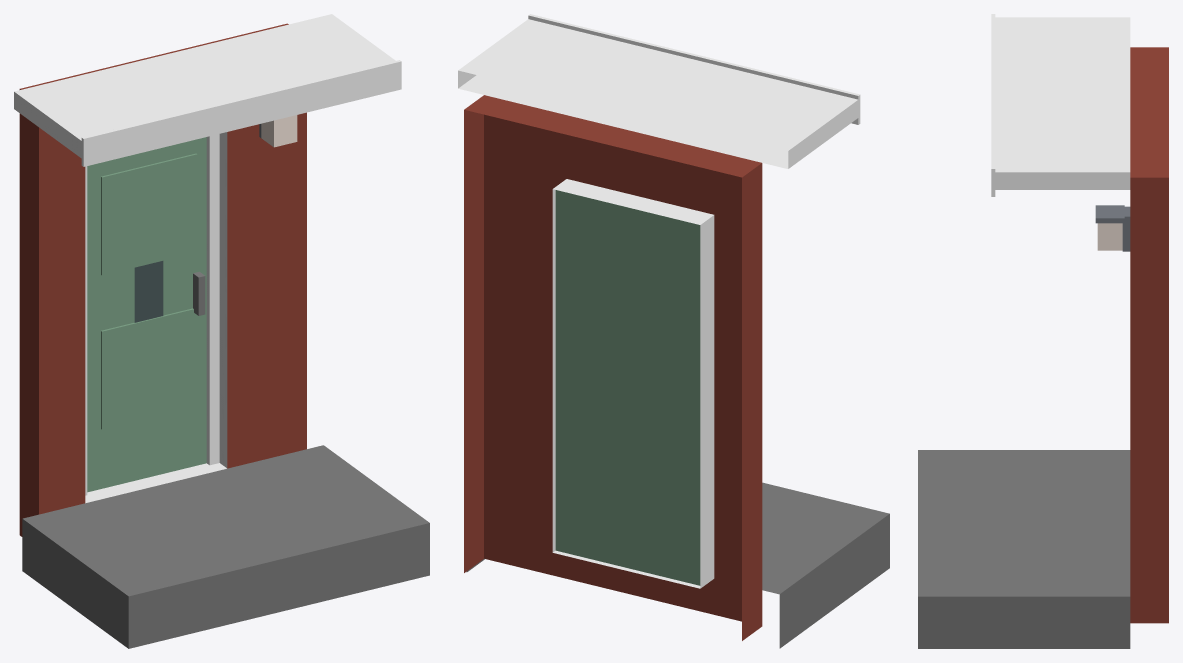
The model's file is entrance_close.fbx.
3 views of the same model, side by side, from view 1: azimuth 30°, elevation 25°; view 2: azimuth 150°, elevation 25°; view 3: azimuth 270°, elevation 25° (orthographic). The views are drawn at different scales.
Visible parts, largest first — view 1: a2015/600/entrance_close; view 2: a2015/600/entrance_close; view 3: a2015/600/entrance_close.
Boxes of the visible parts, x1=… form: a2015/600/entrance_close: x1=14, y1=14, x2=429, y2=648; a2015/600/entrance_close: x1=458, y1=14, x2=889, y2=648; a2015/600/entrance_close: x1=918, y1=14, x2=1168, y2=648.
Size of the model in its own units: 1.9 by 2.77 by 1.3.
